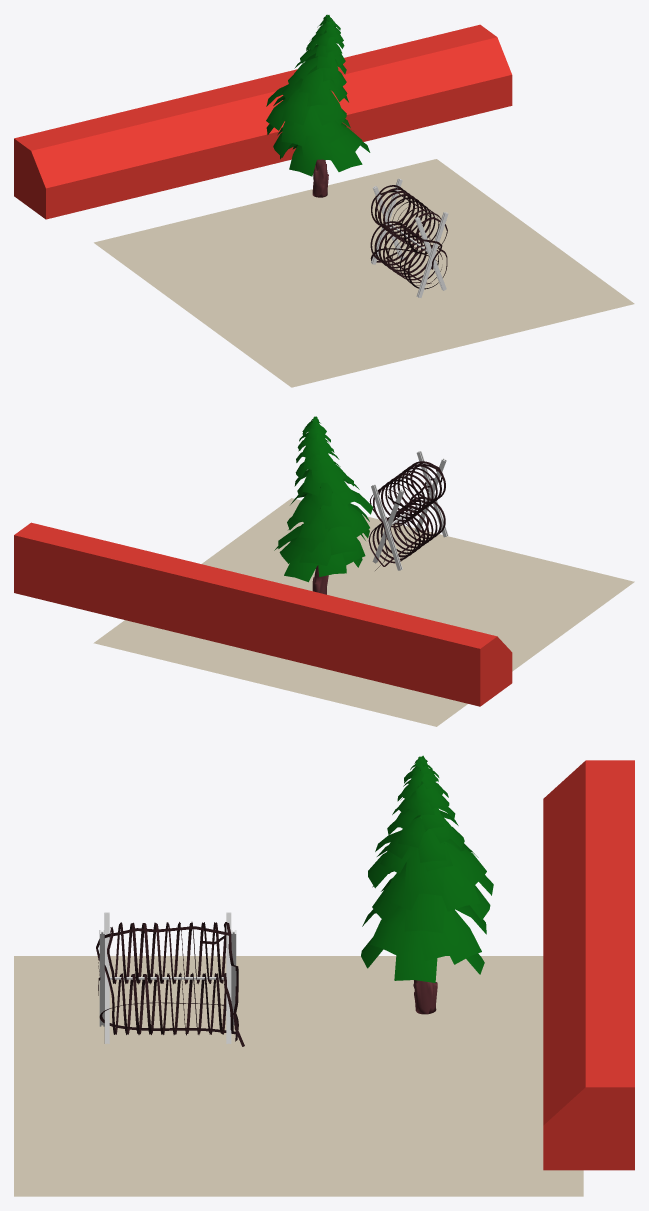
3 renders of one model, top to bottom at view 1: azimuth 30°, elevation 25°; view 2: azimuth 150°, elevation 25°; view 3: azimuth 270°, elevation 25°, orthographic. The views are drawn at different scales.
Parts seen in each view (by area): view 1: Plane, Cube, Fantesy tree, barbed_wire_upper, barbed_wire_lower, beam, beam2, tree3.low.001; view 2: Cube, Plane, Fantesy tree, barbed_wire_lower, barbed_wire_upper, beam, beam2; view 3: Plane, Cube, Fantesy tree, barbed_wire_lower, barbed_wire_upper, beam2, beam, tree3.low.001.
Part boxes in pixels (x1,y1,x2,y2): Plane: (94, 159, 634, 387); Cube: (14, 24, 512, 219); Fantesy tree: (266, 14, 370, 176); barbed_wire_upper: (371, 185, 447, 269); barbed_wire_lower: (370, 190, 447, 289); beam: (371, 178, 448, 297); beam2: (373, 186, 446, 290); tree3.low.001: (312, 159, 328, 197); Cube: (14, 522, 512, 706); Plane: (93, 498, 634, 726); Fantesy tree: (274, 416, 373, 582); barbed_wire_lower: (368, 464, 445, 566); barbed_wire_upper: (369, 461, 445, 570); beam: (371, 451, 448, 570); beam2: (372, 458, 446, 563); Plane: (14, 956, 583, 1196); Cube: (543, 760, 634, 1170); Fantesy tree: (361, 755, 493, 982); barbed_wire_lower: (96, 926, 236, 1035); barbed_wire_upper: (98, 922, 244, 1046); beam2: (104, 912, 231, 1043); beam: (99, 930, 236, 1026); tree3.low.001: (413, 980, 437, 1014).
Size of the model in its own units: 1177 by 545 by 945.
